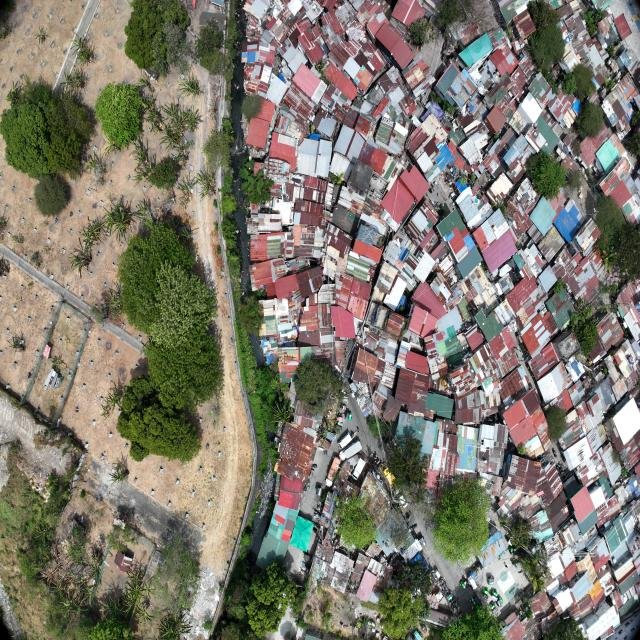Tree: (119, 220, 223, 408), (116, 376, 202, 464), (430, 476, 491, 565), (124, 0, 191, 76), (42, 80, 92, 177), (40, 553, 97, 618), (1, 100, 46, 182), (247, 562, 296, 636), (96, 80, 144, 148), (294, 355, 342, 419), (160, 98, 202, 164), (391, 436, 427, 506), (380, 586, 426, 640), (440, 604, 506, 640), (335, 494, 375, 550), (526, 152, 568, 204), (596, 194, 626, 256), (126, 568, 156, 624), (532, 24, 566, 72), (240, 159, 273, 208), (515, 554, 552, 596), (396, 562, 433, 602), (618, 223, 640, 280), (200, 49, 235, 84), (194, 17, 223, 59), (200, 130, 230, 169), (526, 0, 562, 32), (435, 0, 473, 30), (41, 174, 66, 218), (239, 294, 264, 337), (576, 102, 604, 140), (58, 68, 87, 104), (130, 141, 154, 184), (158, 611, 192, 640), (79, 217, 107, 252), (543, 618, 587, 640), (408, 12, 434, 49), (573, 62, 596, 102), (106, 202, 130, 239), (69, 246, 95, 280), (67, 524, 89, 564), (149, 160, 177, 190), (70, 34, 96, 66), (98, 383, 122, 417), (508, 516, 532, 550), (98, 596, 128, 623), (195, 168, 218, 203), (546, 405, 568, 441), (272, 396, 294, 429), (87, 548, 105, 586), (178, 72, 201, 101), (368, 412, 391, 441), (108, 287, 126, 324), (242, 94, 265, 122), (143, 105, 165, 134), (580, 324, 600, 353), (178, 172, 197, 202), (316, 425, 341, 446), (586, 8, 604, 37), (218, 167, 233, 201), (111, 462, 129, 490), (35, 520, 53, 546), (220, 193, 238, 218), (5, 84, 22, 108), (561, 73, 577, 96), (8, 333, 23, 355), (575, 296, 588, 321), (602, 250, 616, 273), (34, 23, 49, 44), (52, 353, 64, 374)
